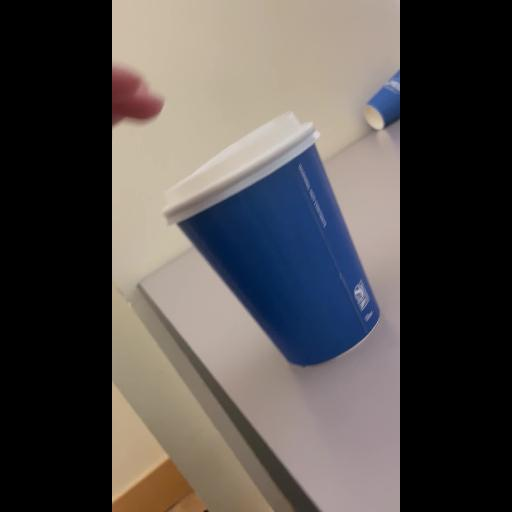lp_paper_cup: (166, 115, 380, 365)
